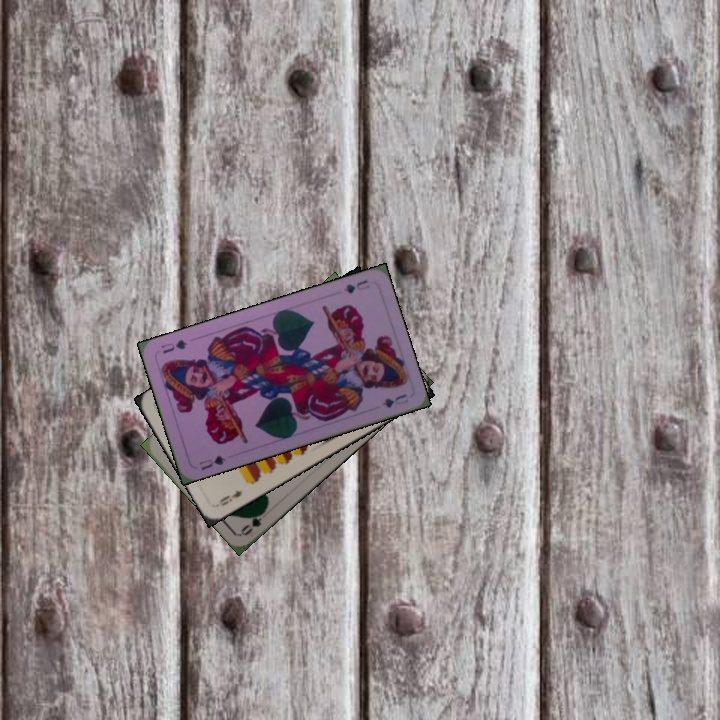E9: (215, 486, 244, 508)
GO: (237, 503, 270, 538)
GU: (196, 451, 228, 473), (340, 276, 372, 296)
